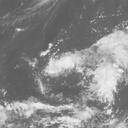cyclone: (35, 49, 108, 120)
